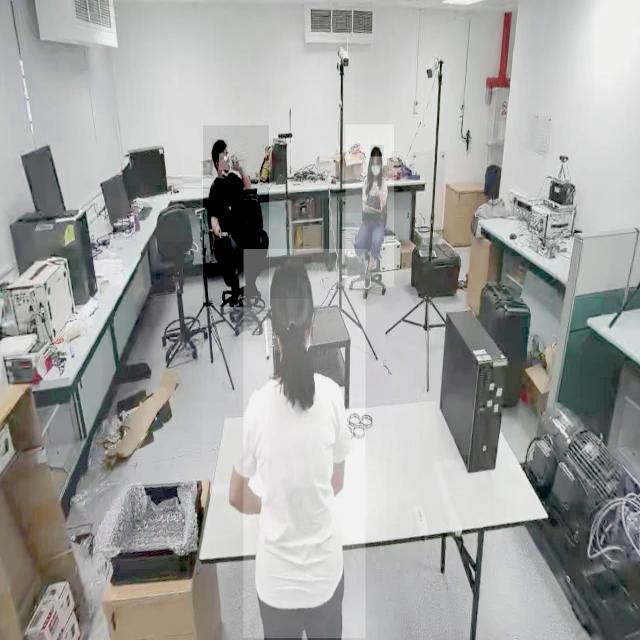face_nomask: (218, 154, 230, 170)
hand_noglove: (230, 152, 242, 172)
head_nohelmet: (270, 257, 312, 299), (211, 138, 228, 154), (370, 145, 384, 157)
person: (243, 249, 365, 639), (203, 125, 269, 308), (345, 124, 394, 288)
